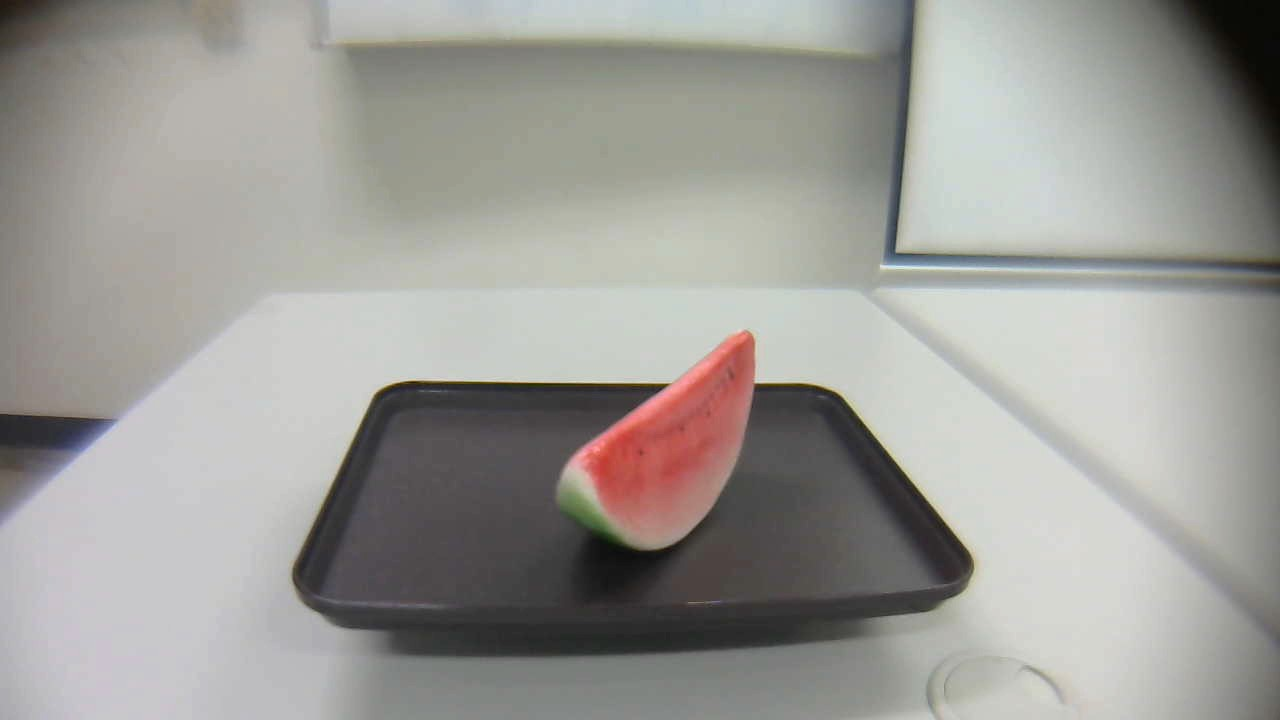water melon: (549, 329, 759, 561)
